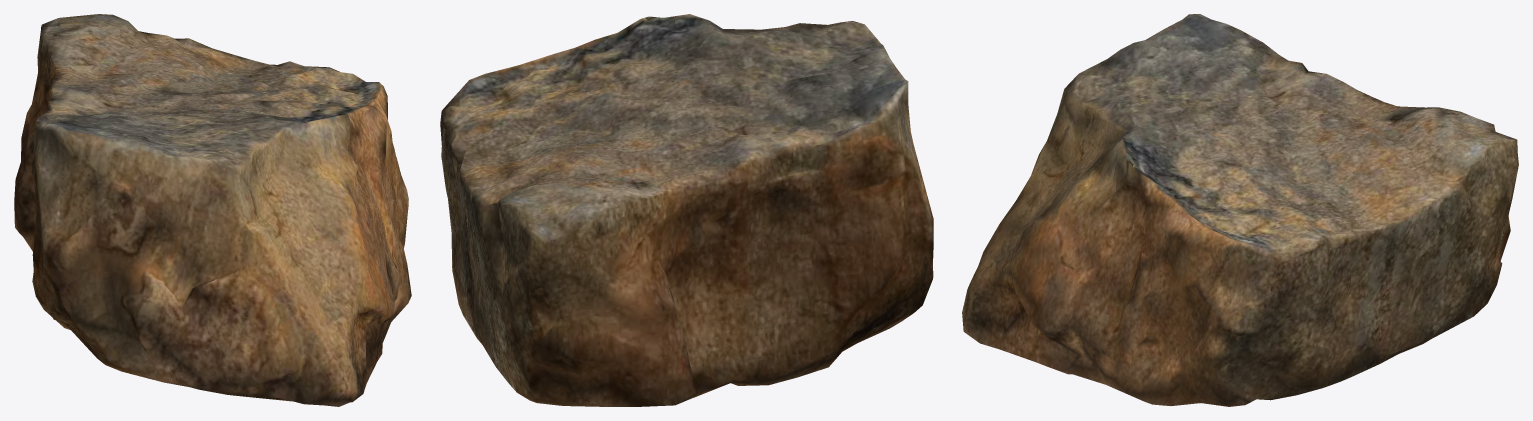
File: block.glb
The picture shows the model from 3 angles, left to right: view 1: azimuth 30°, elevation 25°; view 2: azimuth 150°, elevation 25°; view 3: azimuth 270°, elevation 25°; orthographic projection. The views are drawn at different scales.
Parts seen in each view (by area): view 1: boulder_03_LOD0; view 2: boulder_03_LOD0; view 3: boulder_03_LOD0.
Part boxes in pixels (x1,y1,x2,y2): boulder_03_LOD0: (14,14,411,406); boulder_03_LOD0: (440,14,933,406); boulder_03_LOD0: (962,14,1518,406).
Bounding box in the file's own units: 2.4 × 1.47 × 3.06.
Materials: 1 (1 with a texture image).
